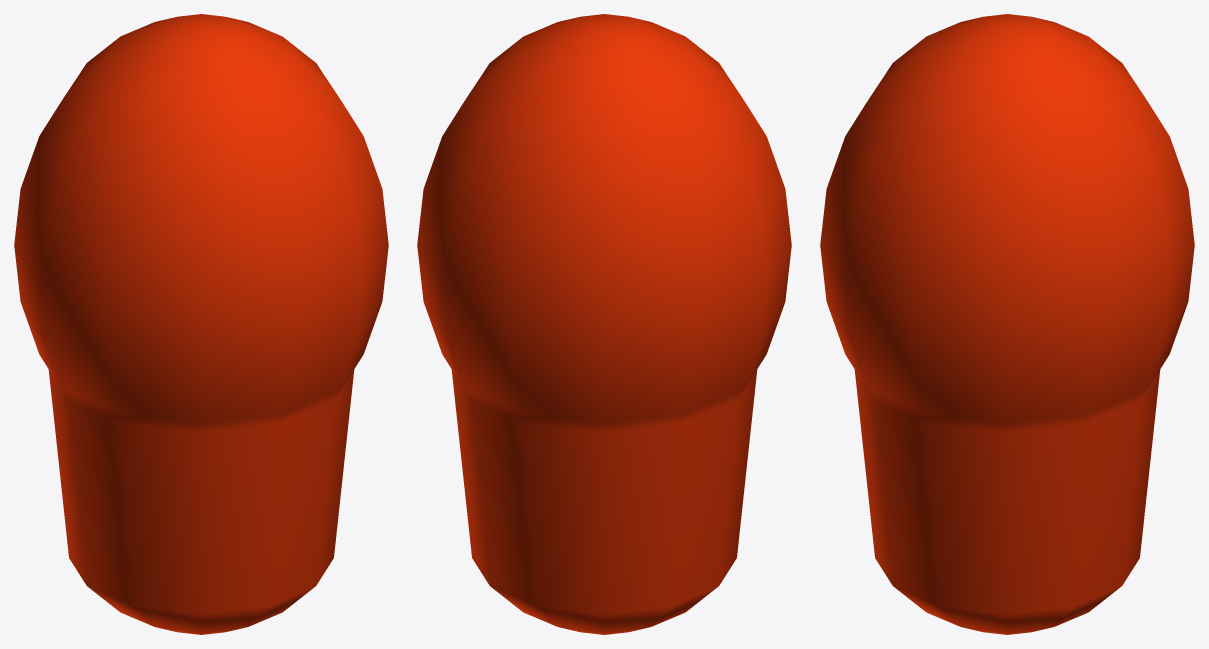
File: Small_Led_Bulb_03.fbx
The picture shows the model from 3 angles, left to right: view 1: azimuth 30°, elevation 25°; view 2: azimuth 150°, elevation 25°; view 3: azimuth 270°, elevation 25°; orthographic projection.
Visible parts, largest first — view 1: Small_Led_Bulb_03; view 2: Small_Led_Bulb_03; view 3: Small_Led_Bulb_03.
Part boxes in pixels (x1,y1,x2,y2): Small_Led_Bulb_03: (14, 14, 388, 634); Small_Led_Bulb_03: (417, 14, 791, 634); Small_Led_Bulb_03: (820, 14, 1194, 634).
Size of the model in its own units: 1.04 by 1.83 by 1.04.
